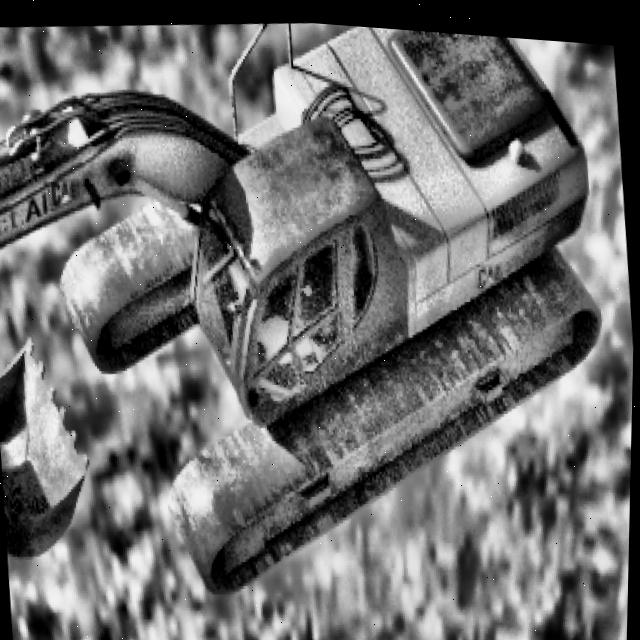excavator: (0, 0, 628, 629)
